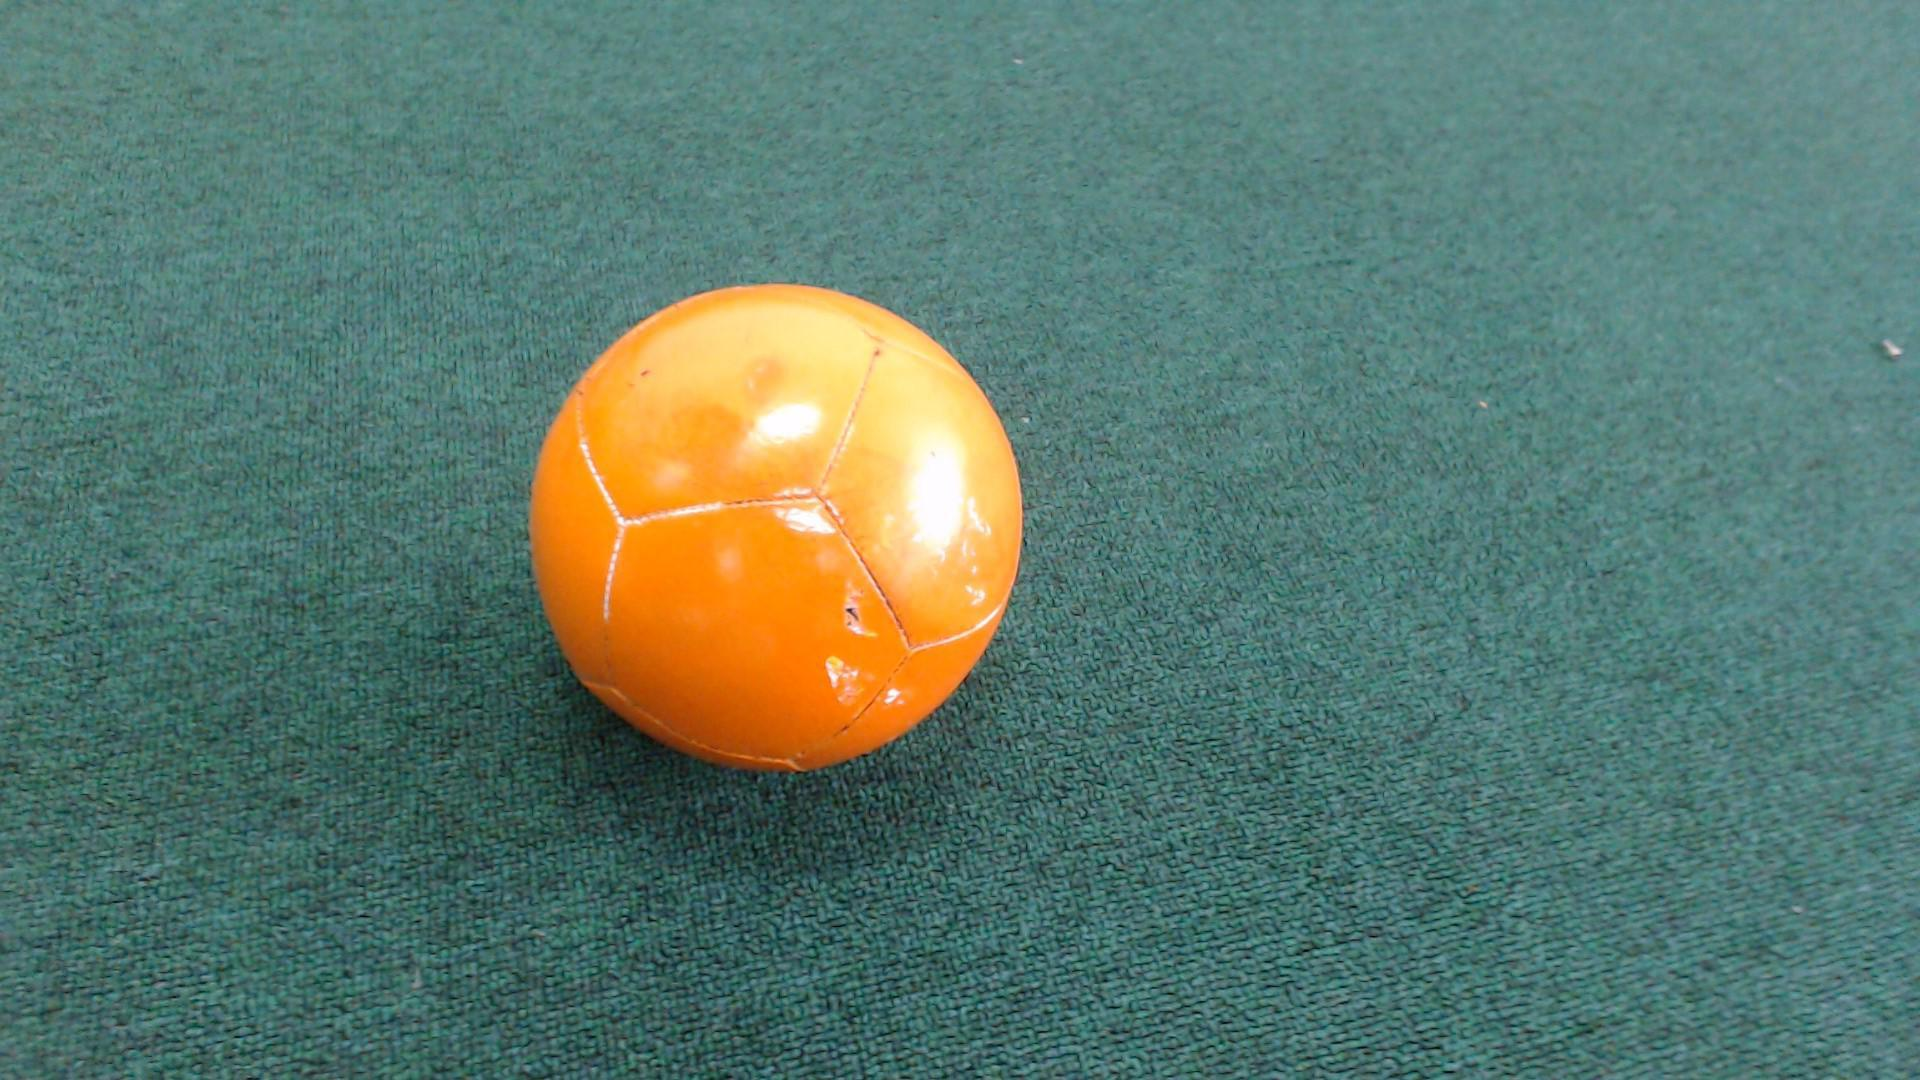bola: (501, 256, 1083, 815)
